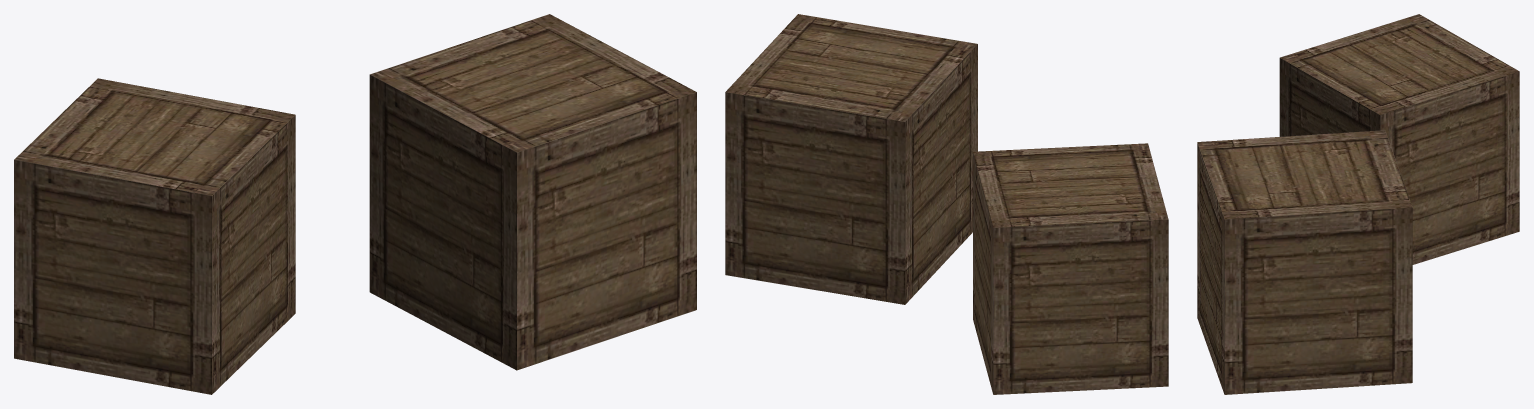
Rendered from muxiang_yc_22.fbx.
3 renders of one model, left to right at view 1: azimuth 30°, elevation 25°; view 2: azimuth 150°, elevation 25°; view 3: azimuth 270°, elevation 25°, orthographic. The views are drawn at different scales.
Parts seen in each view (by area): view 1: muxiang_yc_22; view 2: muxiang_yc_22; view 3: muxiang_yc_22.
Boxes of the visible parts, x1=… form: muxiang_yc_22: x1=14, y1=14, x2=696, y2=394; muxiang_yc_22: x1=725, y1=14, x2=1168, y2=394; muxiang_yc_22: x1=1197, y1=14, x2=1519, y2=394.
Size of what is drawn, in the model's own units: 205 by 76.13 by 127.
